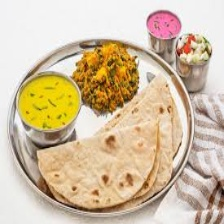roti: (31, 120, 172, 207)
